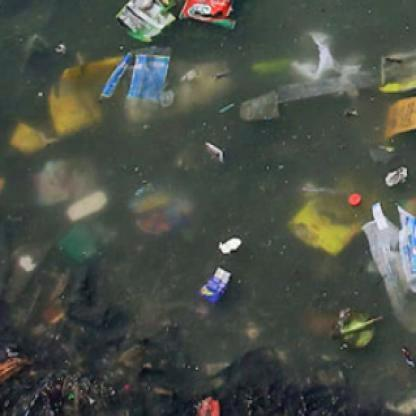Plastic: (96, 44, 135, 112), (382, 162, 410, 190)
Trash: (127, 47, 177, 104), (112, 0, 177, 39), (197, 265, 236, 312), (177, 0, 240, 29), (216, 230, 246, 257), (345, 190, 364, 209)
